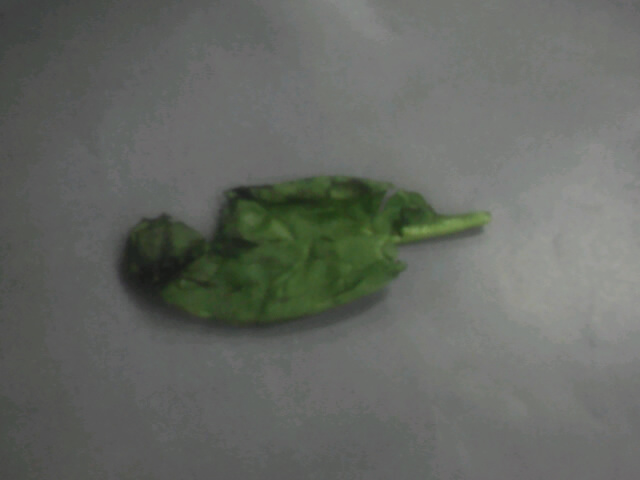yellow: (113, 165, 516, 341)
